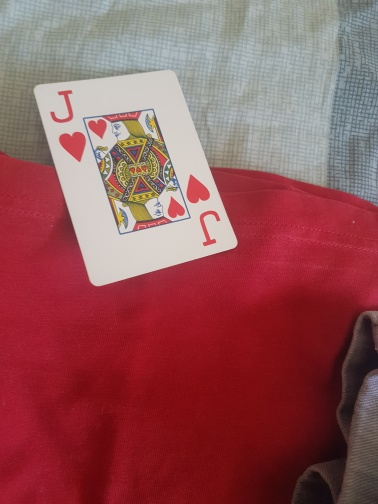jack: (34, 70, 237, 287)
